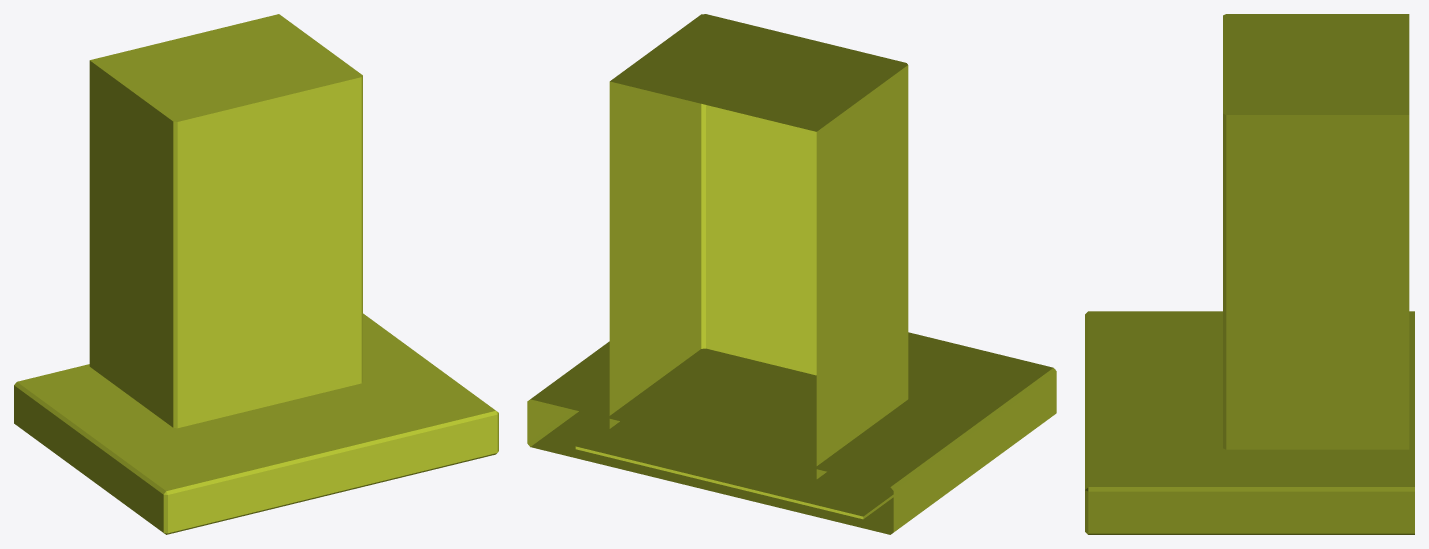
File: RFAIPP_Kitchen_Hoods.FBX
The picture shows the model from 3 angles, left to right: view 1: azimuth 30°, elevation 25°; view 2: azimuth 150°, elevation 25°; view 3: azimuth 270°, elevation 25°; orthographic projection. The views are drawn at different scales.
Visible parts, largest first — view 1: RFAIPP_Kitchen_Hoods; view 2: RFAIPP_Kitchen_Hoods; view 3: RFAIPP_Kitchen_Hoods.
Boxes of the visible parts, x1,y1,x2,y2 form: RFAIPP_Kitchen_Hoods: [14, 14, 498, 534]; RFAIPP_Kitchen_Hoods: [527, 14, 1056, 534]; RFAIPP_Kitchen_Hoods: [1085, 14, 1414, 534].
Bounding box in the file's own units: 0.6414 × 0.6397 × 0.5.
